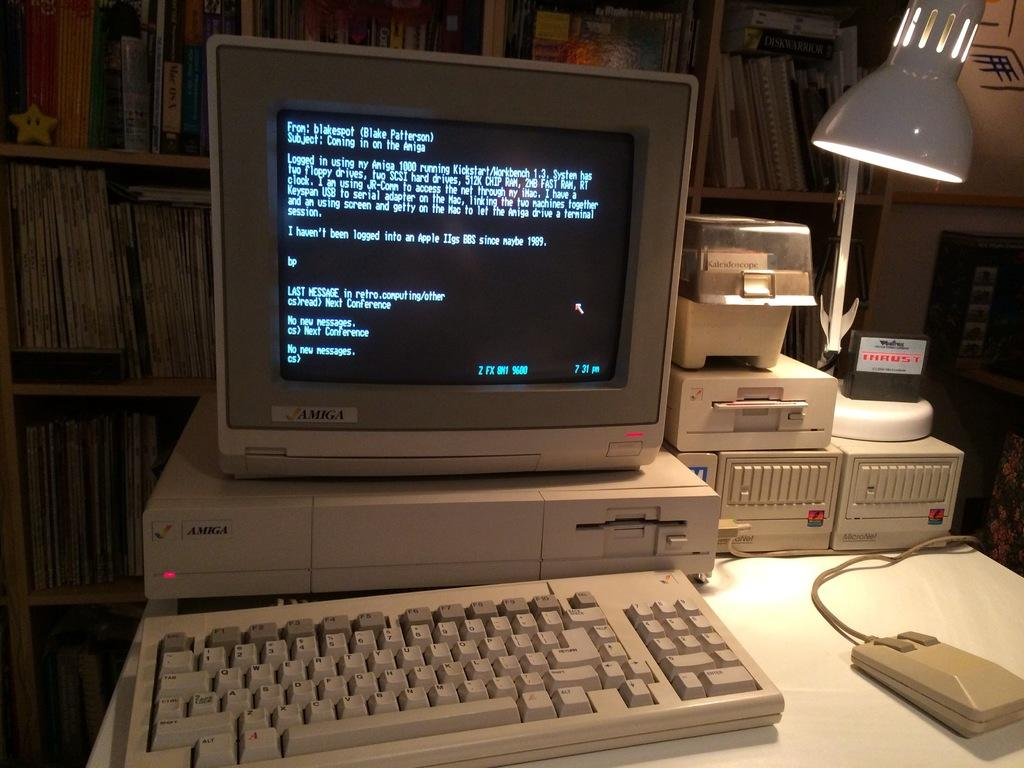Computer-keyboard: (120, 569, 787, 767)
Computer-monitor: (176, 45, 675, 522)
